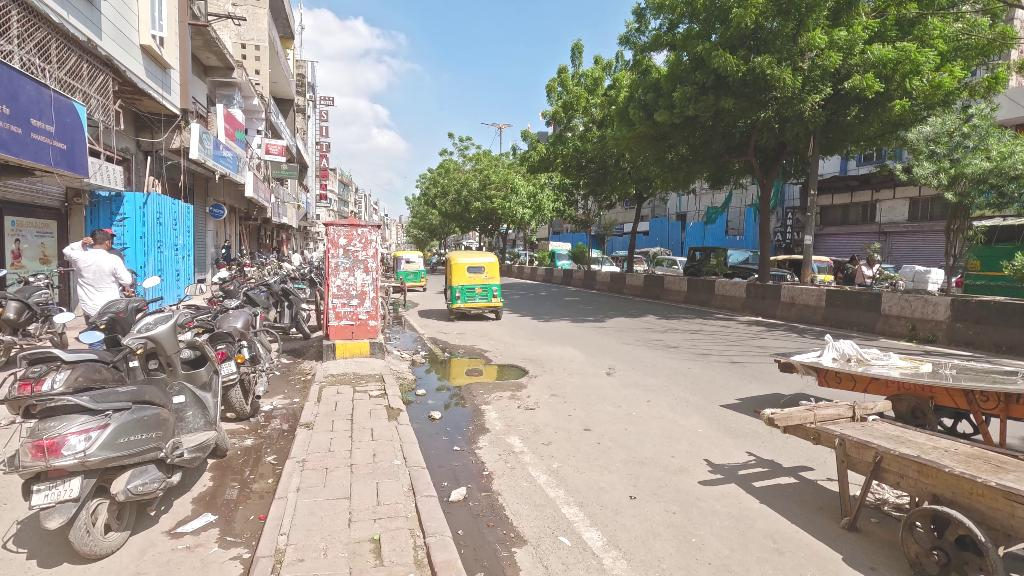garbage: (173, 512, 216, 531), (448, 487, 469, 502), (431, 408, 443, 418), (415, 387, 427, 396)
